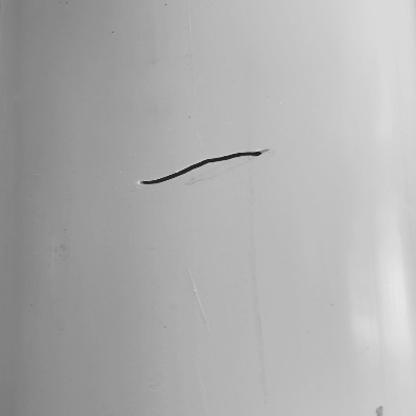fengxi: (138, 148, 272, 185)
